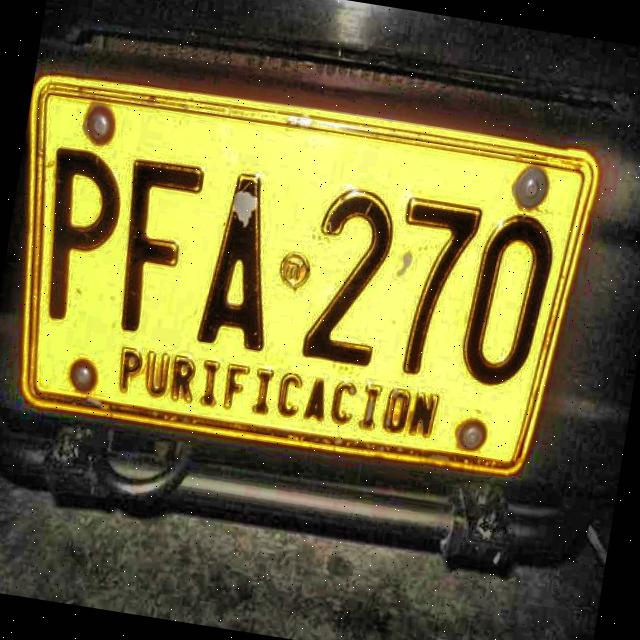0: (449, 204, 565, 398)
2: (296, 180, 402, 372)
7: (381, 194, 487, 386)
A: (186, 168, 271, 358)
F: (116, 157, 209, 340)
P: (46, 143, 126, 330)
